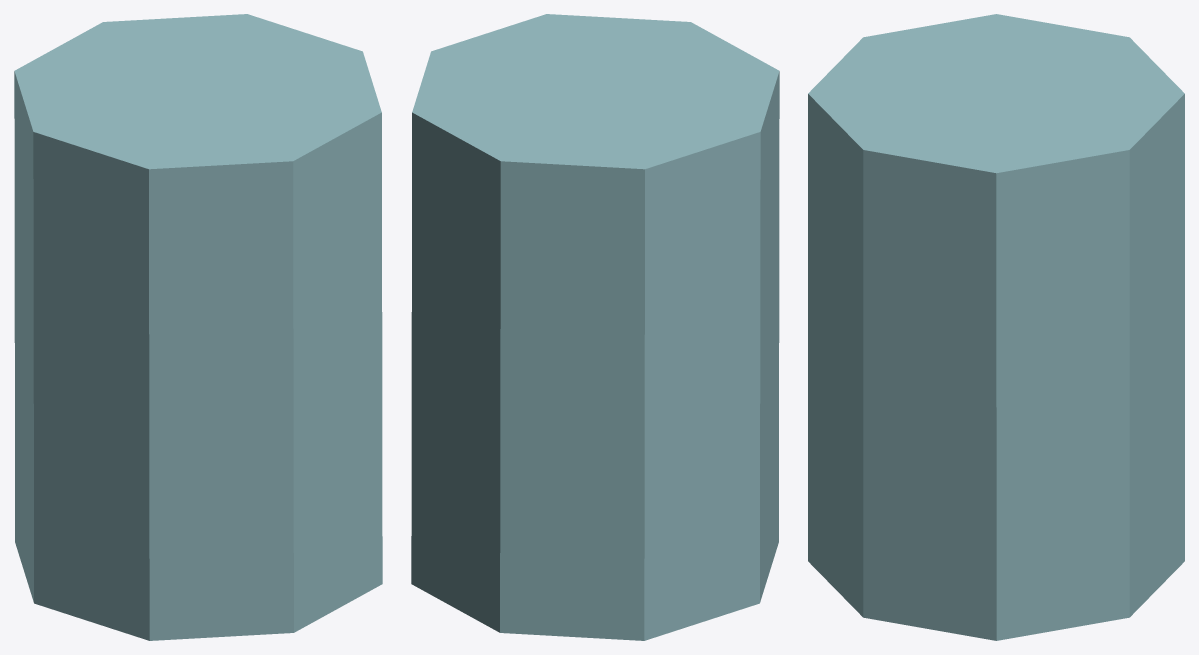
Rendered from Itr_Obj_Dispenser_Sauce_03.FBX.
The picture shows the model from 3 angles, left to right: view 1: azimuth 30°, elevation 25°; view 2: azimuth 150°, elevation 25°; view 3: azimuth 270°, elevation 25°; orthographic projection.
Parts seen in each view (by area): view 1: Itr_Obj_Dispenser_Sauce_03; view 2: Itr_Obj_Dispenser_Sauce_03; view 3: Itr_Obj_Dispenser_Sauce_03.
Boxes of the visible parts, left/top/right/bottom form: Itr_Obj_Dispenser_Sauce_03: left=14, top=14, right=382, bottom=640; Itr_Obj_Dispenser_Sauce_03: left=411, top=14, right=779, bottom=640; Itr_Obj_Dispenser_Sauce_03: left=808, top=14, right=1184, bottom=640.
Size of the model in its own units: 3.78 by 5.16 by 3.77.
